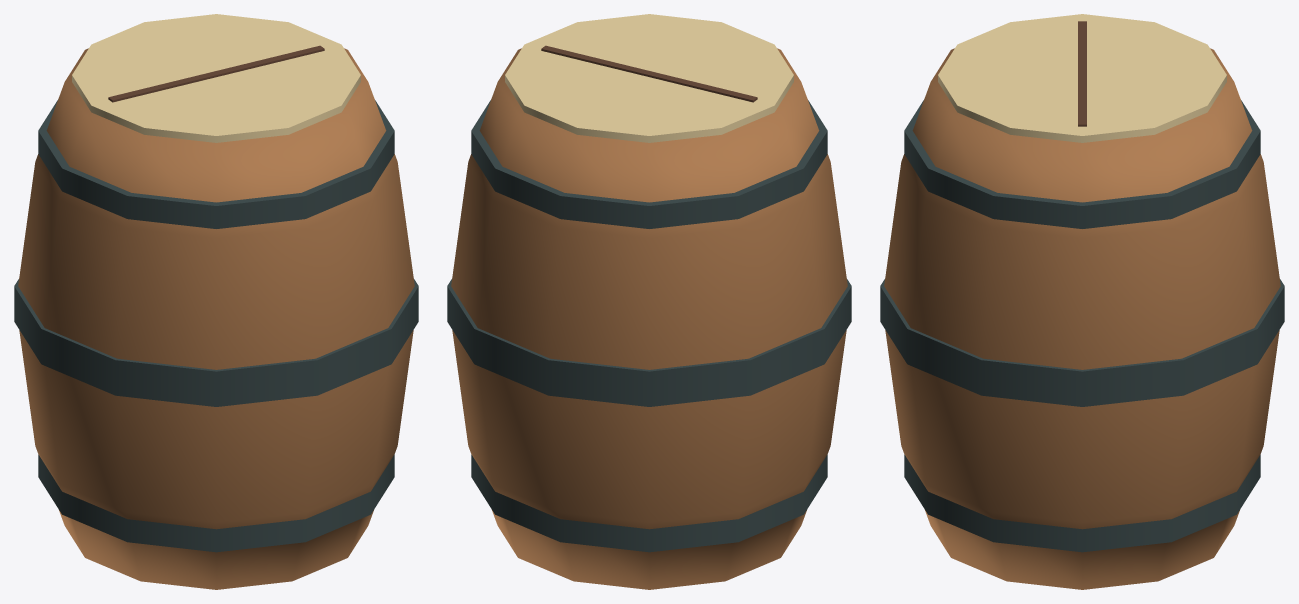
The model's file is supply-barrel.glb.
3 views of the same model, side by side, from view 1: azimuth 30°, elevation 25°; view 2: azimuth 150°, elevation 25°; view 3: azimuth 270°, elevation 25° (orthographic).
Parts seen in each view (by area): view 1: staves, lid, hoop-1, hoop-2, hoop-0, lid-seam; view 2: staves, lid, hoop-1, hoop-2, hoop-0, lid-seam; view 3: staves, lid, hoop-1, hoop-2, hoop-0, lid-seam.
Part boxes in pixels (bbox=[...]): staves: bbox=[18, 48, 414, 589]; lid: bbox=[72, 14, 360, 142]; hoop-1: bbox=[14, 279, 418, 406]; hoop-2: bbox=[38, 100, 394, 228]; hoop-0: bbox=[38, 454, 394, 552]; lid-seam: bbox=[108, 45, 324, 102]; staves: bbox=[451, 48, 847, 589]; lid: bbox=[505, 14, 793, 142]; hoop-1: bbox=[447, 279, 851, 406]; hoop-2: bbox=[471, 100, 827, 228]; hoop-0: bbox=[471, 454, 827, 552]; lid-seam: bbox=[541, 45, 757, 102]; staves: bbox=[884, 48, 1280, 589]; lid: bbox=[938, 14, 1226, 142]; hoop-1: bbox=[880, 279, 1284, 406]; hoop-2: bbox=[904, 100, 1260, 228]; hoop-0: bbox=[904, 454, 1260, 552]; lid-seam: bbox=[1078, 21, 1086, 126].
Bounding box in the file's own units: 0.826 × 1.02 × 0.826.
